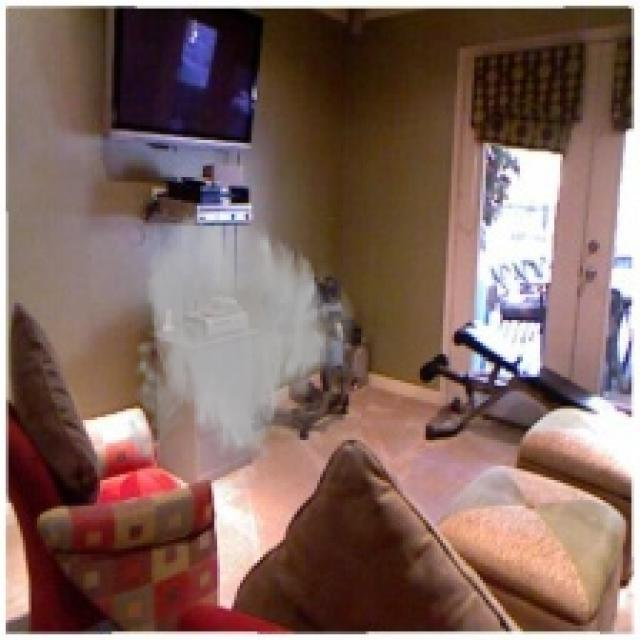smoke: (120, 208, 363, 488)
